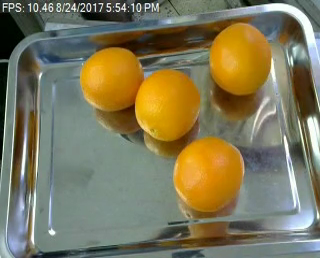Orange: (173, 138, 245, 212), (135, 69, 201, 141), (208, 21, 273, 94), (79, 47, 144, 112)
